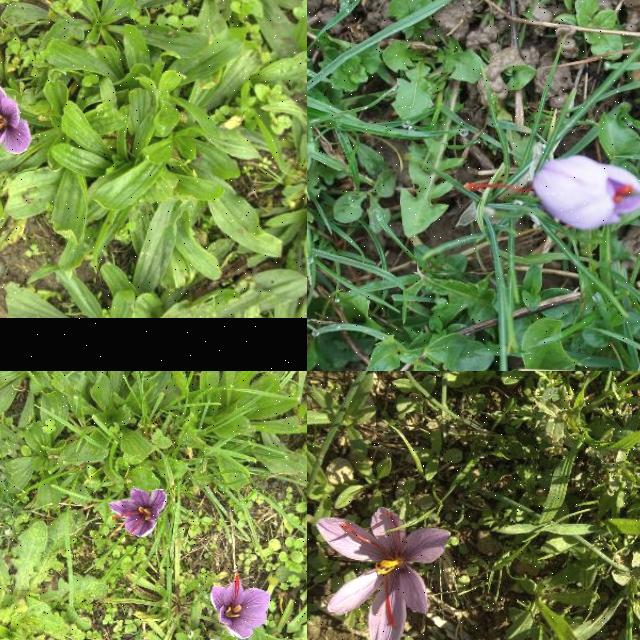flower: (317, 508, 450, 640), (464, 154, 640, 229), (211, 575, 271, 640), (0, 76, 32, 178), (108, 488, 168, 540)
